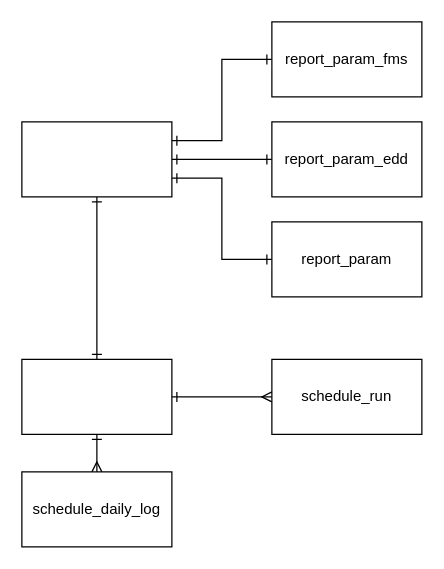
The diagram is 444 pixels wide and 569 high, and some of its shapes have lost their labels. Each missing label, with the centre of its shape:
report_file: (96,159)
schedule_job: (96,396)
